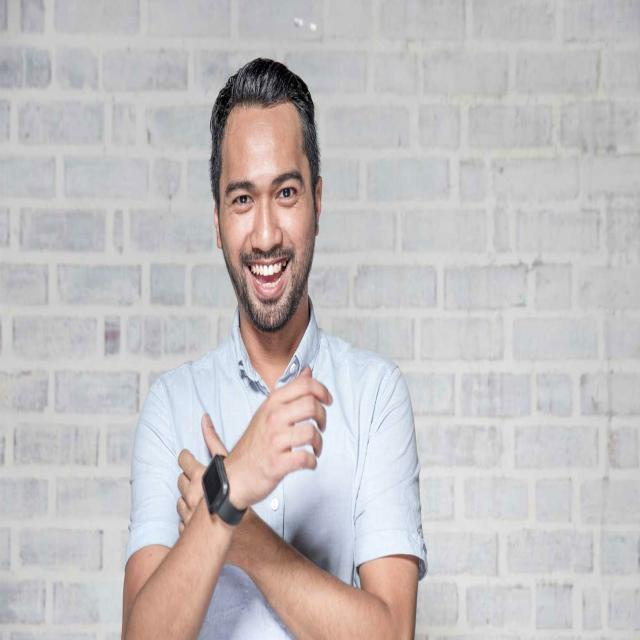adult: (121, 54, 423, 640)
